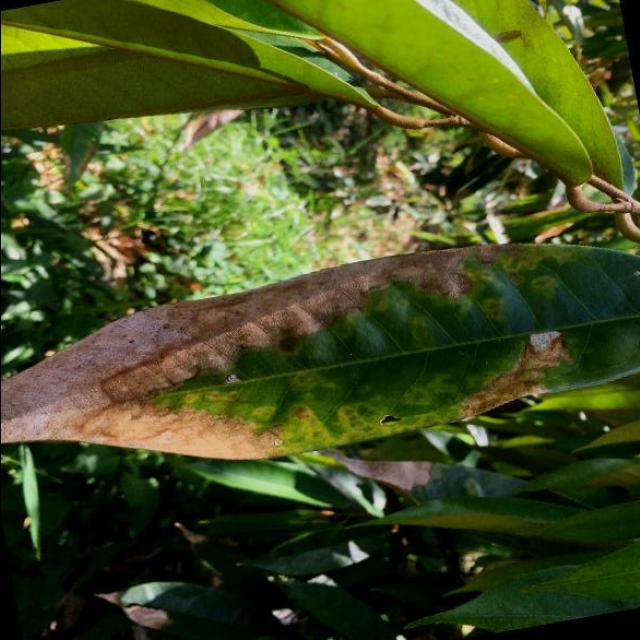Leaf Blight: (0, 200, 640, 519)
